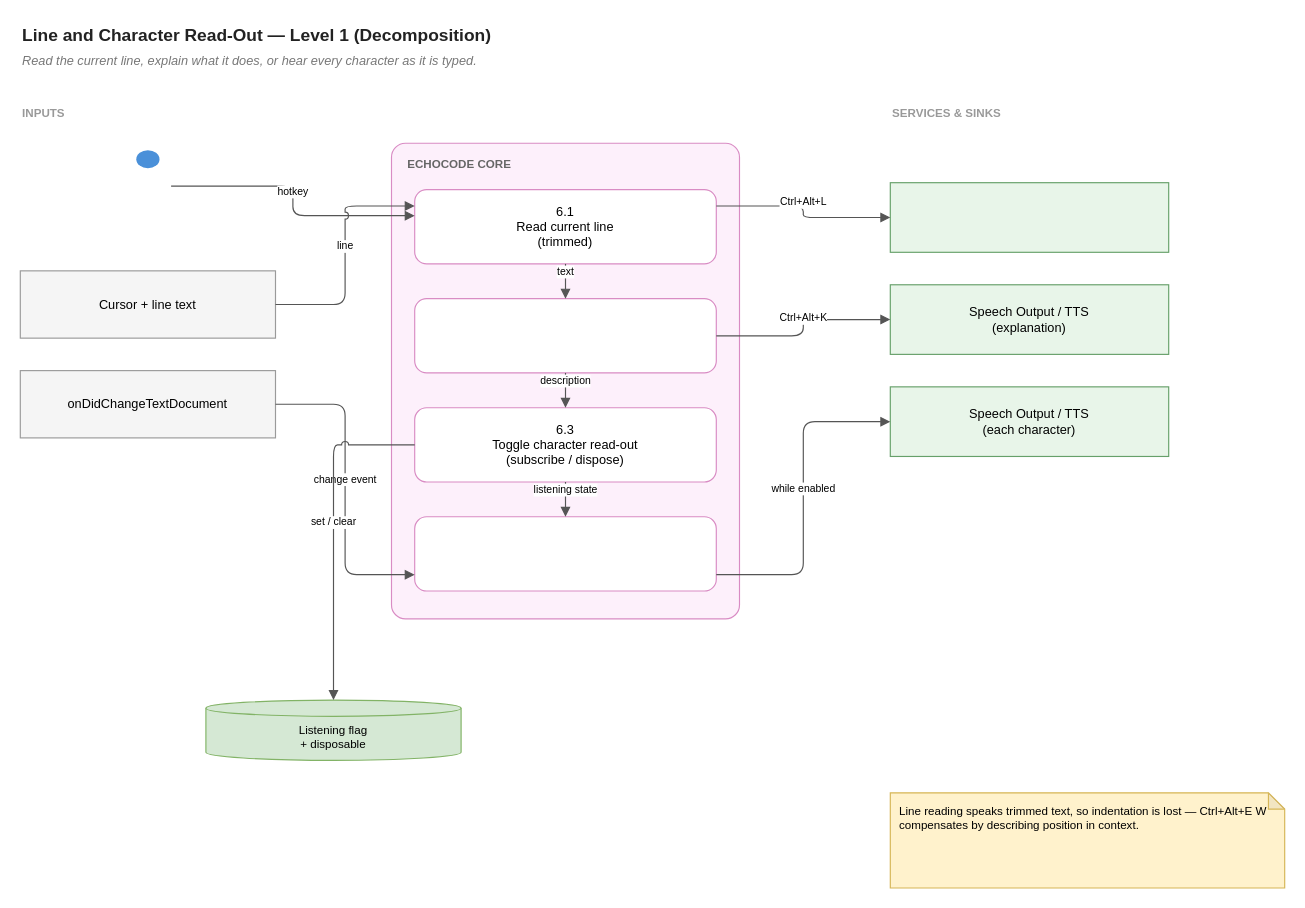
Image size: 1305x908. Some labels were removed from this diagram. The shapes that lost their labels are listed below. From the top down, each one's centre as x and y in pixels, then its label:
At pixel 147 186: "Users".
At pixel 1029 217: "Speech Output / TTS (verbatim line)".
At pixel 565 335: "6.2 Describe line describePythonLine() — rule-based".
At pixel 565 553: "6.4 Speak character to left of cursor".
